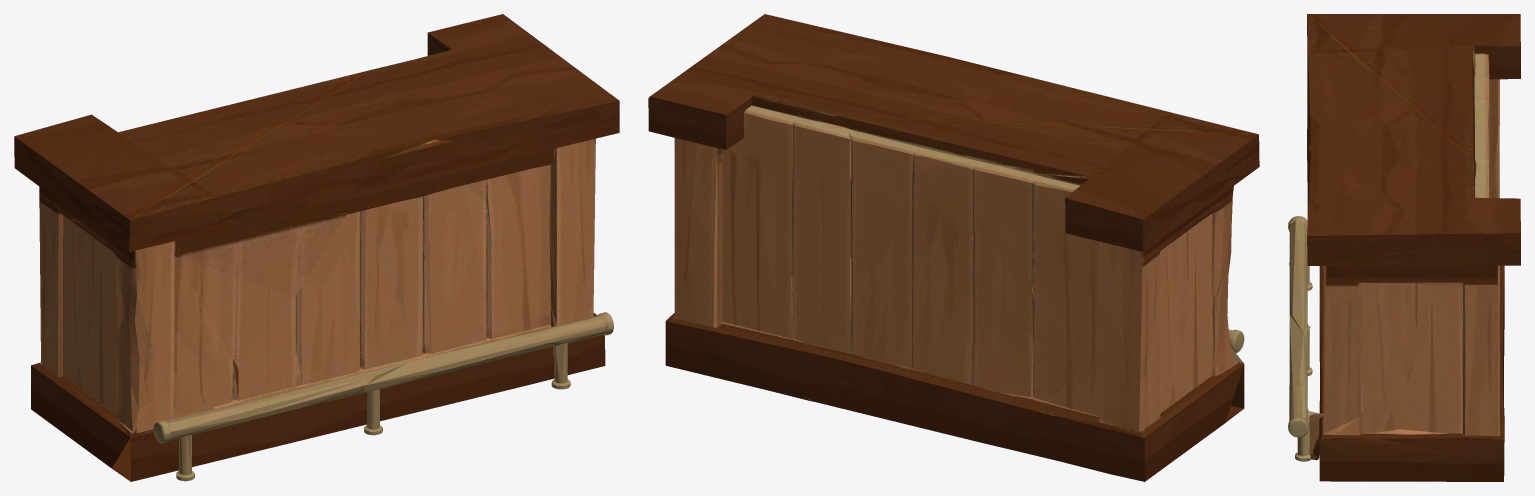
Rendered from counter.glb.
3 views of the same model, side by side, from view 1: azimuth 30°, elevation 25°; view 2: azimuth 150°, elevation 25°; view 3: azimuth 270°, elevation 25° (orthographic). The views are drawn at different scales.
Bounding box in the file's own units: 1.9 × 1.01 × 0.8423.
Materials: 1 (1 with a texture image).
